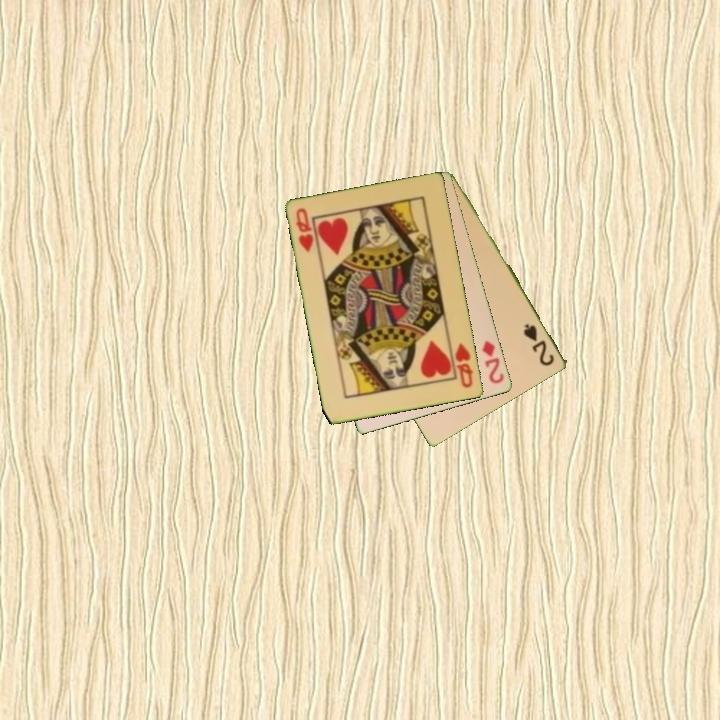2d: (479, 337, 507, 387)
2s: (520, 320, 558, 369)
Qh: (452, 339, 476, 391), (293, 205, 317, 255)
